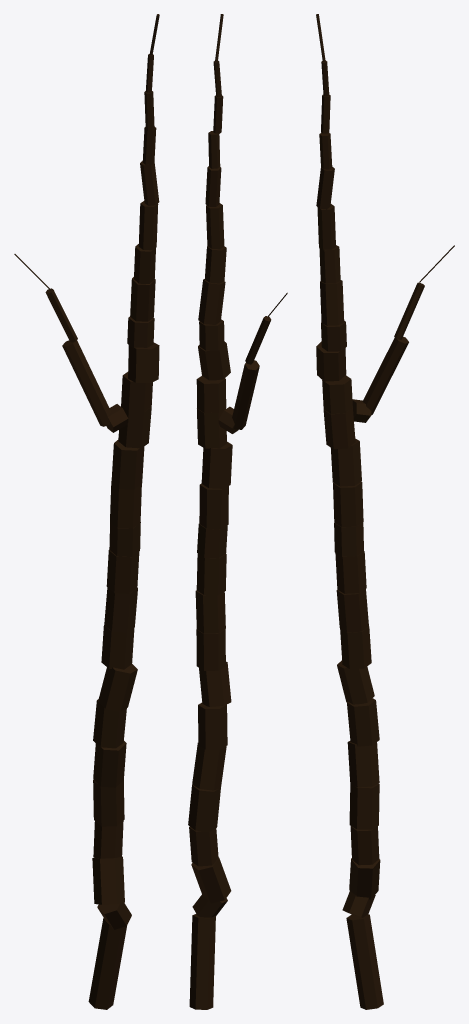
File: 2022_tree_532_no_leaf.obj
3 renders of one model, left to right at view 1: azimuth 90°, elevation 25°; view 2: azimuth 210°, elevation 25°; view 3: azimuth 270°, elevation 25°, orthographic. The views are drawn at different scales.
Parts seen in each view (by area): view 1: TrunkAndBranches; view 2: TrunkAndBranches; view 3: TrunkAndBranches.
Boxes of the visible parts, x1,y1,x2,y2 form: TrunkAndBranches: (14, 14, 159, 1009); TrunkAndBranches: (188, 14, 287, 1009); TrunkAndBranches: (316, 14, 454, 1009).
Bounding box in the file's own units: 0.2806 × 4.46 × 0.5788.
